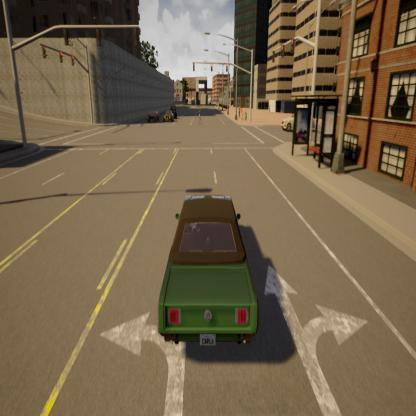Cars: (146, 189, 266, 359), (280, 108, 322, 134), (163, 108, 177, 126), (146, 109, 160, 126), (168, 101, 178, 120)
Pedestrian: (196, 103, 205, 129)
